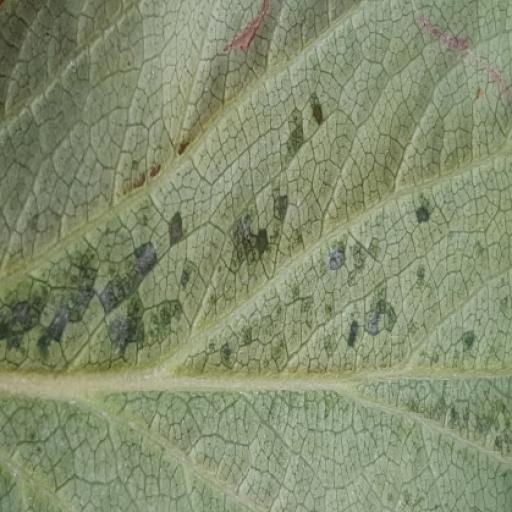Angular Leafspot: (0, 92, 511, 461)
